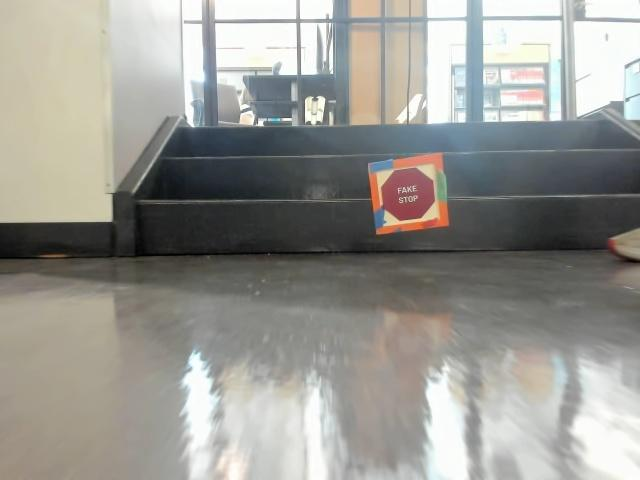Fake Stop: (378, 171, 431, 223)
